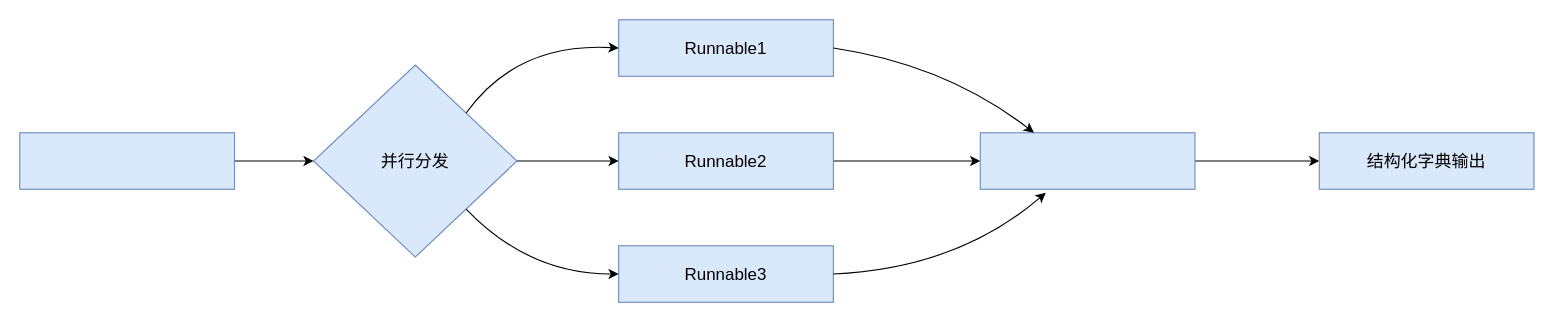
Some shapes in this 1554 by 322 pixel diagram are drawn without their labels. Each missing label, with the centre of its shape:
原始输入: (126,160)
结果合并: (1087,160)
